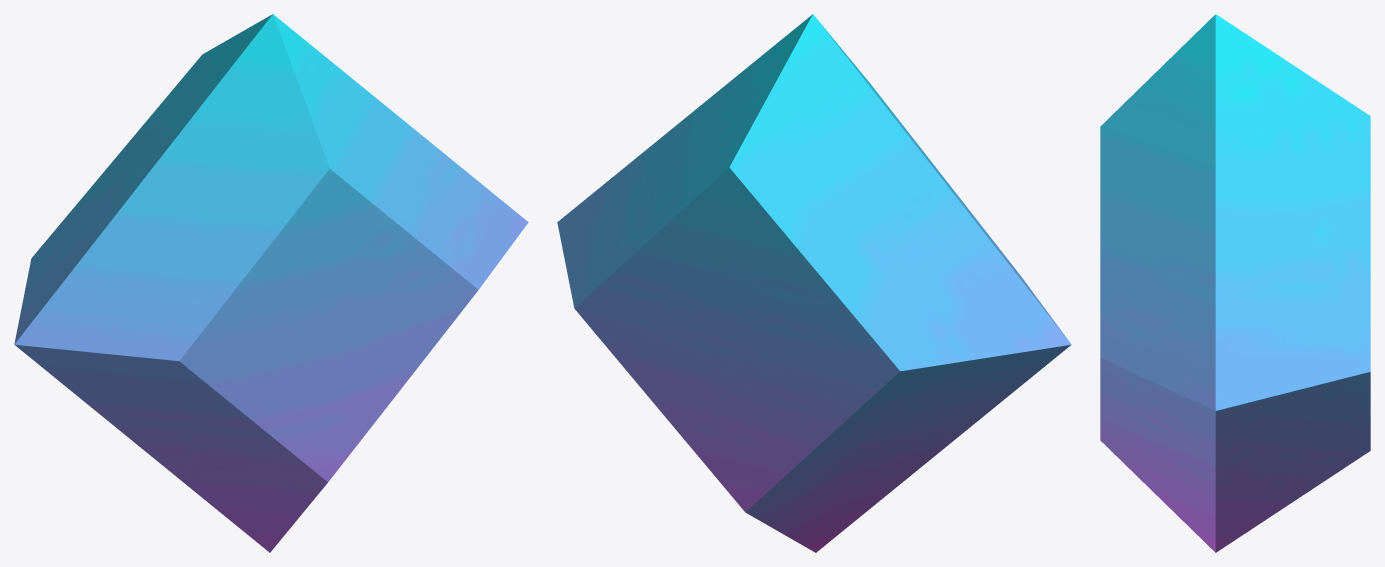
The model's file is gem-small.glb.
3 renders of one model, left to right at view 1: azimuth 30°, elevation 25°; view 2: azimuth 150°, elevation 25°; view 3: azimuth 270°, elevation 25°, orthographic.
Parts seen in each view (by area): view 1: Gem_Small; view 2: Gem_Small; view 3: Gem_Small.
Part boxes in pixels (<box>): Gem_Small: <box>14,14,528,552</box>; Gem_Small: <box>557,14,1071,552</box>; Gem_Small: <box>1100,14,1370,552</box>.
Size of the model in its own units: 0.3007 by 0.3007 by 0.1363.
Materials: 1 (1 with a texture image).
